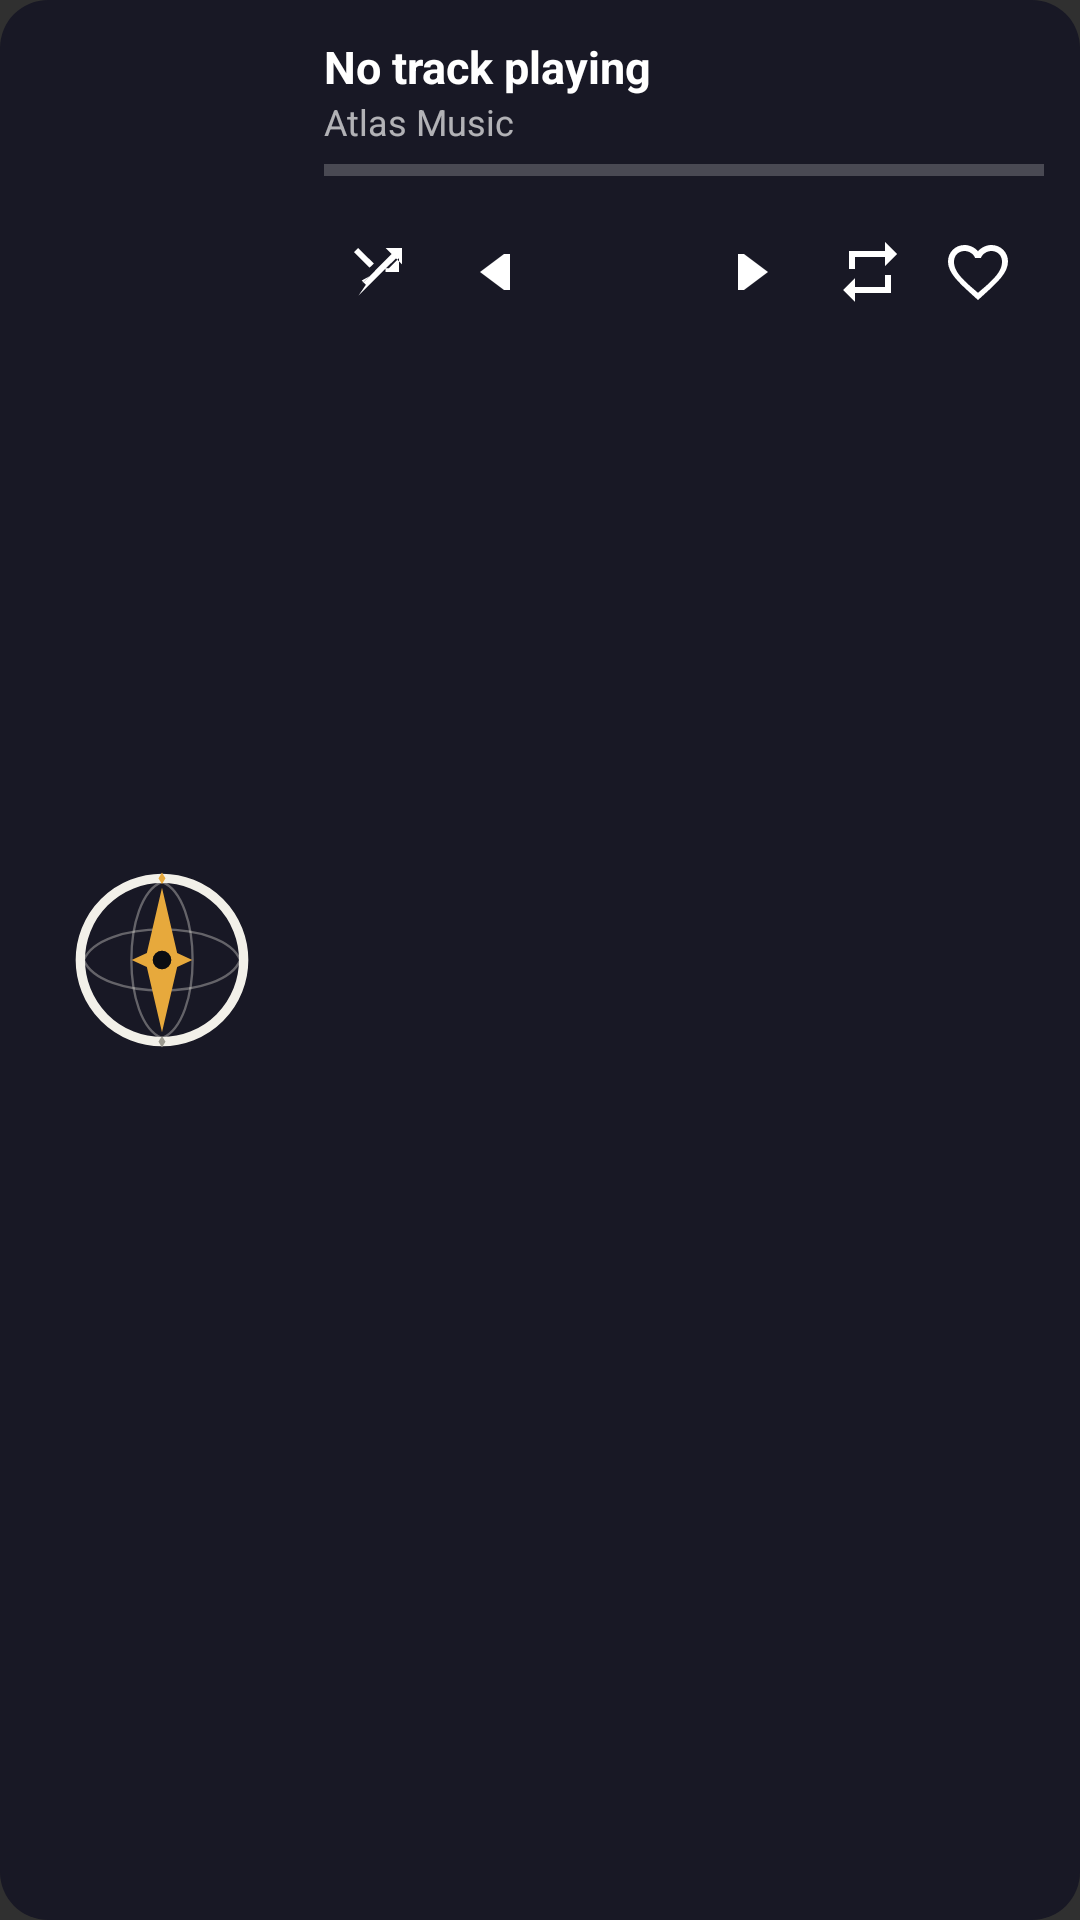

Named icons in this screenshot (1080 × 1920) and their centers, [x,y]:
Like: [978,272]
Next: [753,272]
Previous: [495,272]
Repeat: [870,272]
Shuffle: [378,271]
